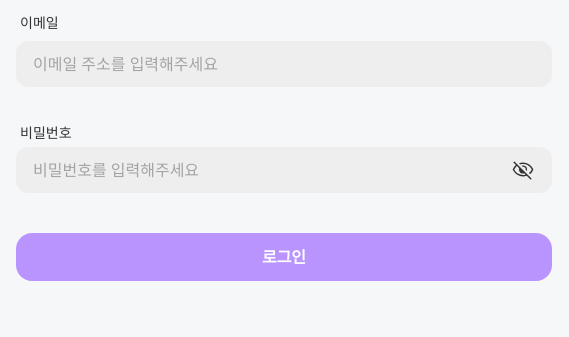
Test case: 🧩 LoginForm — 서버 및 라우팅 시나리오 › 서버 오류 발생 시 전역 에러 메시지가 표시된다
Type "error@test.com" into the field labelled "이메일".
click(284, 64); type("error@test.com")  # box 33,52 -> 535,76
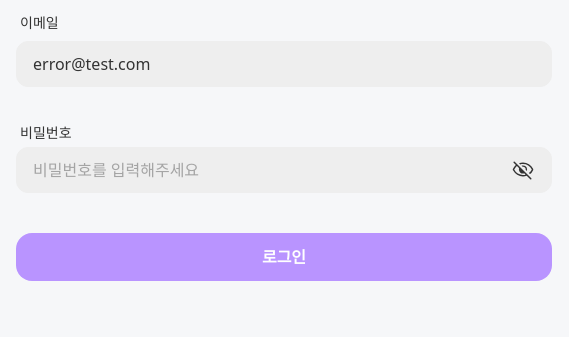
Type "abcd1234" into the password field labelled "비밀번호".
click(272, 170); type("abcd1234")  # box 33,158 -> 511,182
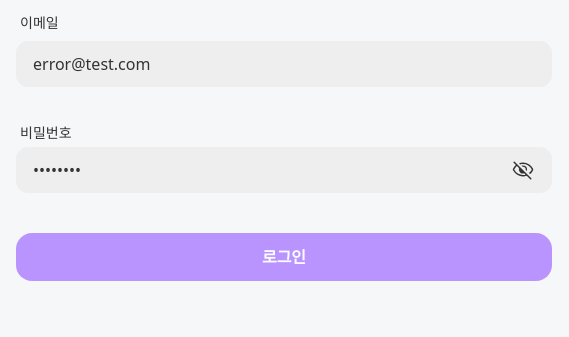
Click the button "로그인".
click(284, 257)  # box 16,233 -> 552,281
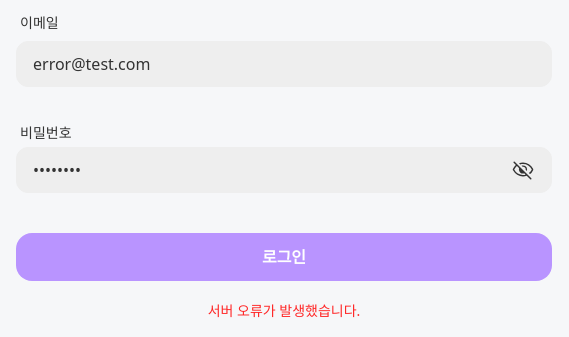
Expected: the text "서버 오류가 발생했습니다." is shown, 208,301 -> 360,320
